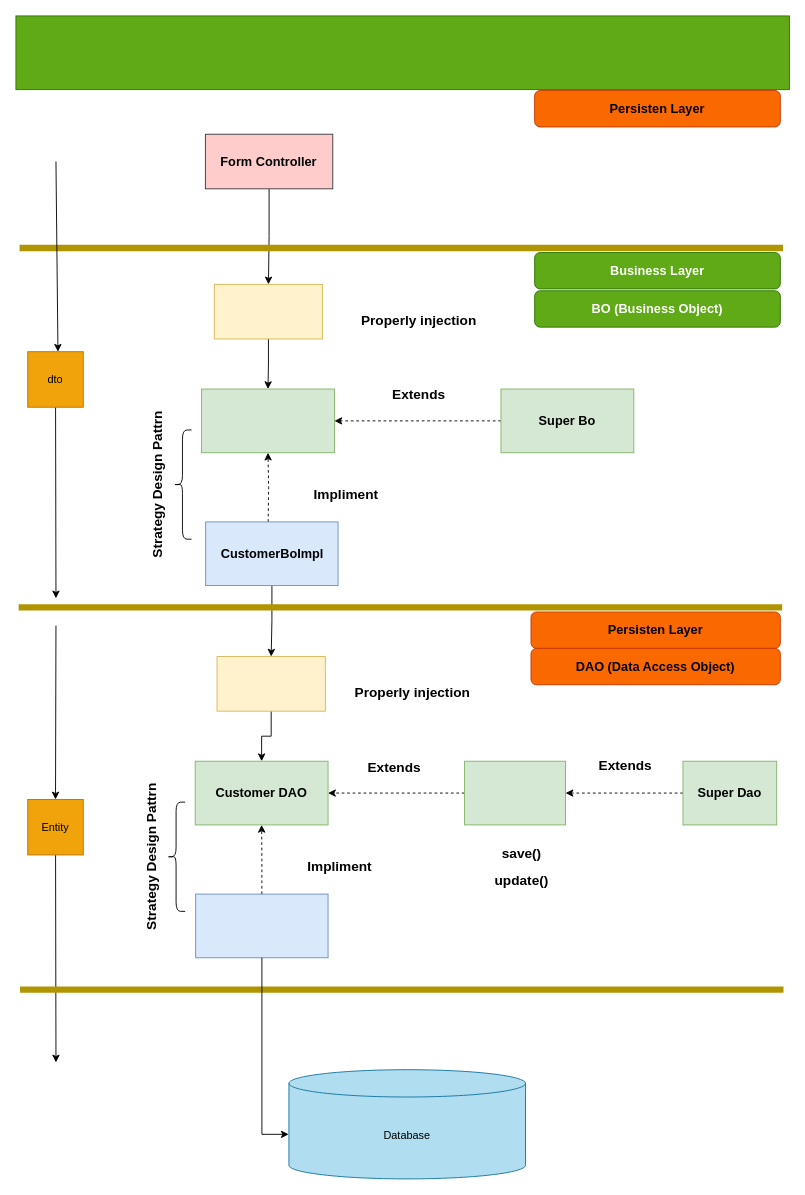
This 805x1195 diagram has some shape labels left out. Each missing label, with the box of its shape:
Bo Factory: (213, 283, 323, 339)
Crud Dao: (464, 760, 566, 825)
Customer Bo: (201, 388, 334, 453)
CustomerDaoImpl: (195, 893, 328, 958)
DAO Factory: (216, 656, 325, 711)
Layered Architecture: (15, 15, 789, 90)
